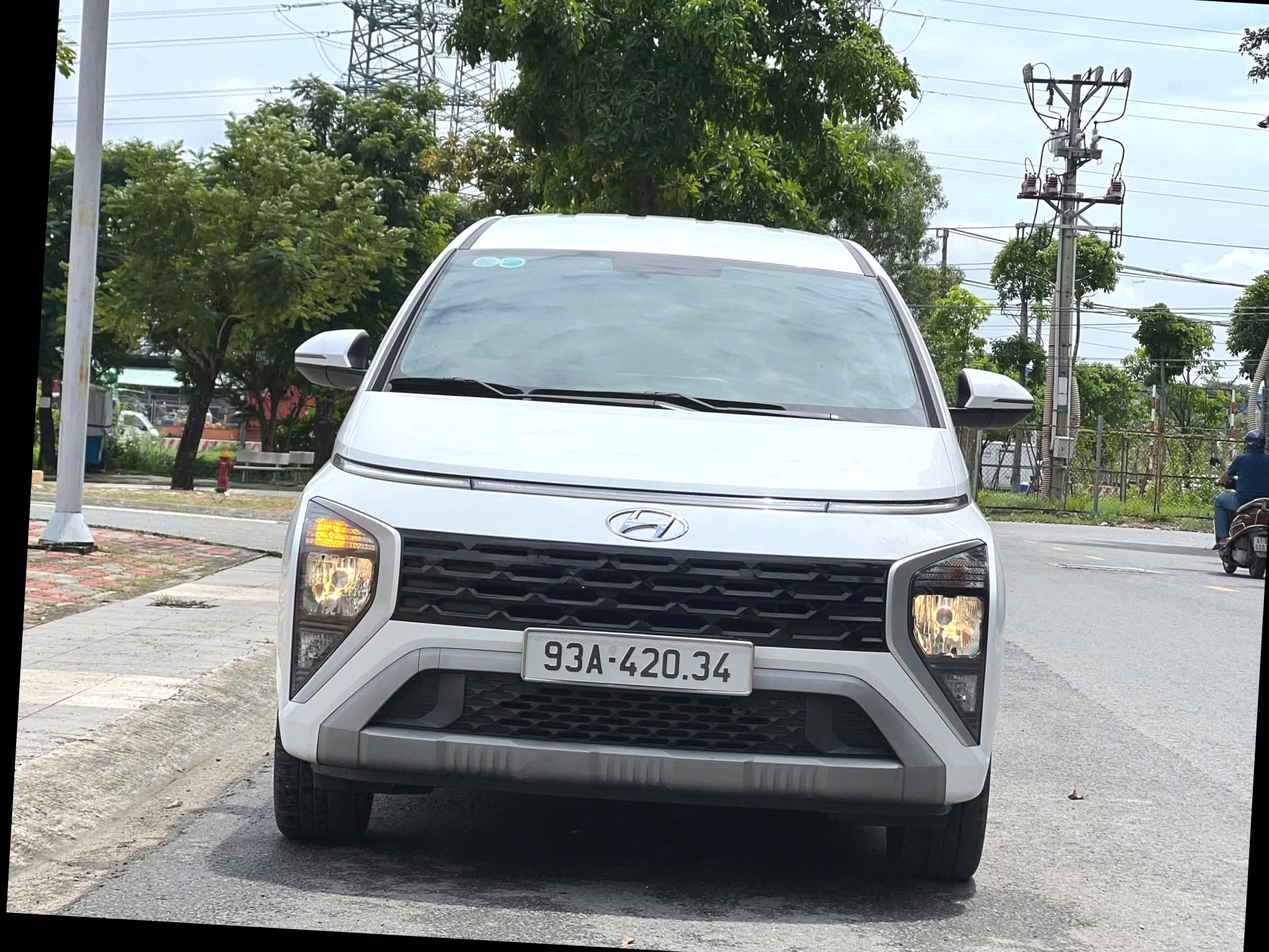Bien-so: (527, 641, 750, 707)
